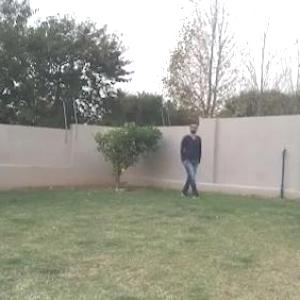follow: (181, 122, 200, 200)
